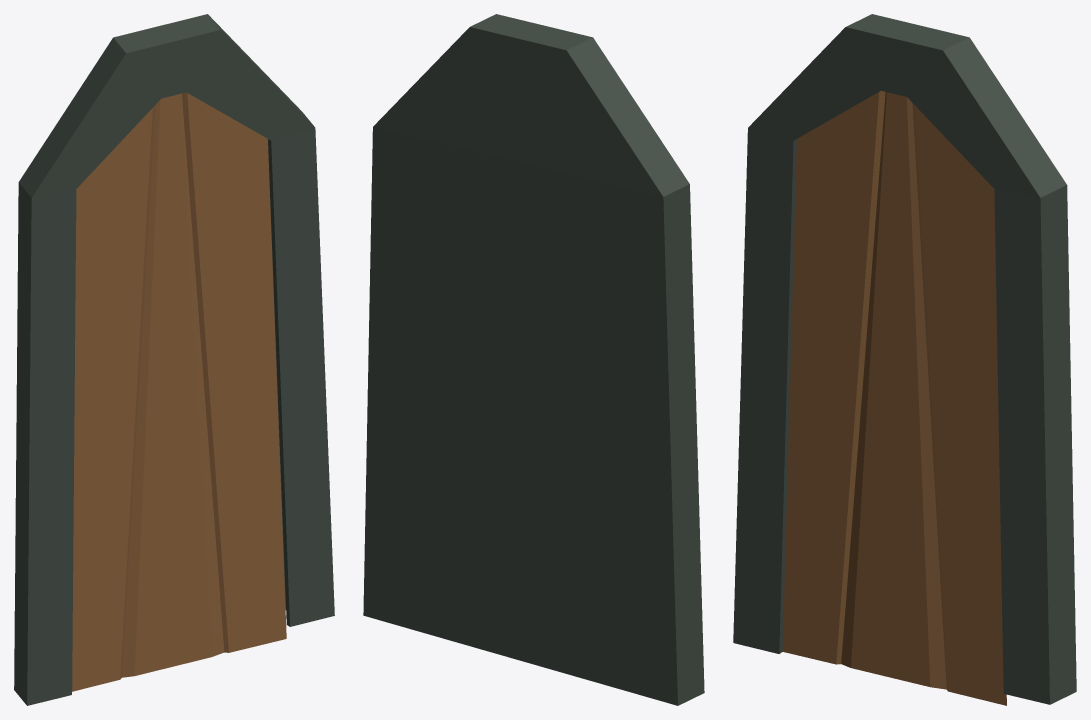
File: Door_mat.fbx
3 renders of one model, left to right at view 1: azimuth 30°, elevation 25°; view 2: azimuth 150°, elevation 25°; view 3: azimuth 330°, elevation 25°, orthographic. The views are drawn at different scales.
Parts seen in each view (by area): view 1: Door_mat; view 2: Door_mat; view 3: Door_mat.
Boxes of the visible parts, x1,y1,x2,y2 form: Door_mat: [14, 14, 334, 705]; Door_mat: [363, 14, 704, 705]; Door_mat: [733, 14, 1076, 705].
Size of the model in its own units: 0.4561 by 0.8626 by 0.0639.
